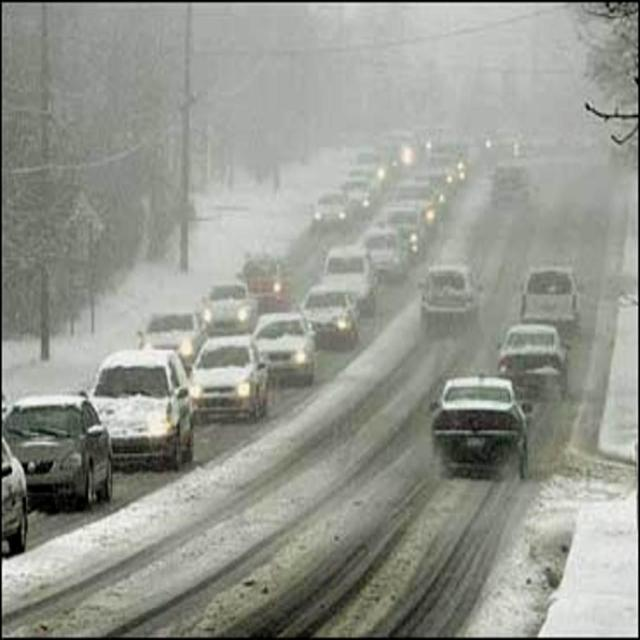Car: (87, 346, 195, 472), (4, 390, 114, 508), (428, 376, 532, 482), (185, 333, 269, 421), (495, 322, 571, 402), (250, 311, 318, 386), (417, 262, 485, 335), (518, 262, 585, 334), (136, 309, 209, 370), (294, 285, 361, 350), (315, 249, 376, 316), (0, 432, 29, 558), (234, 254, 292, 311), (199, 280, 257, 335), (388, 185, 444, 241), (378, 207, 426, 260), (362, 228, 404, 280), (490, 162, 532, 208), (310, 191, 348, 231), (341, 180, 376, 220)
